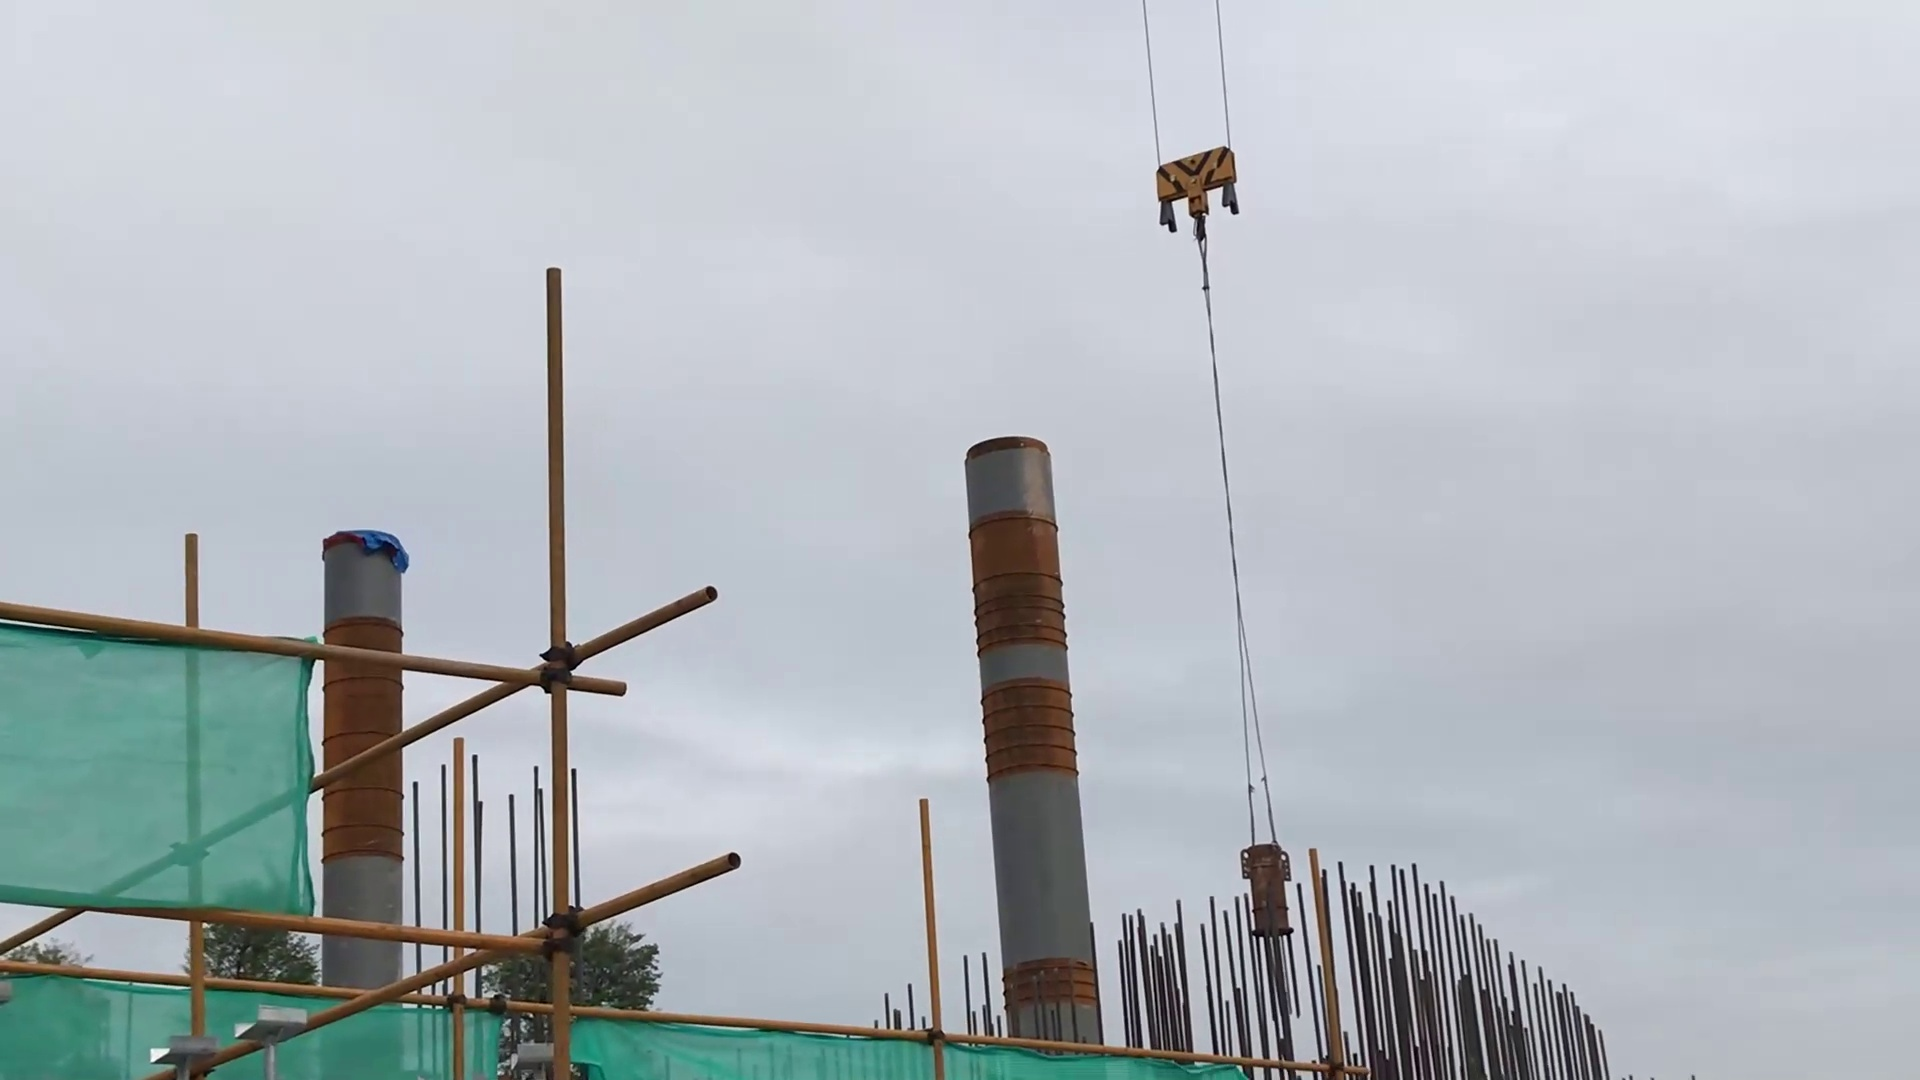hook: (1151, 140, 1246, 243)
